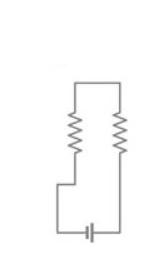resistor: (102, 99, 135, 159), (59, 104, 91, 158)
